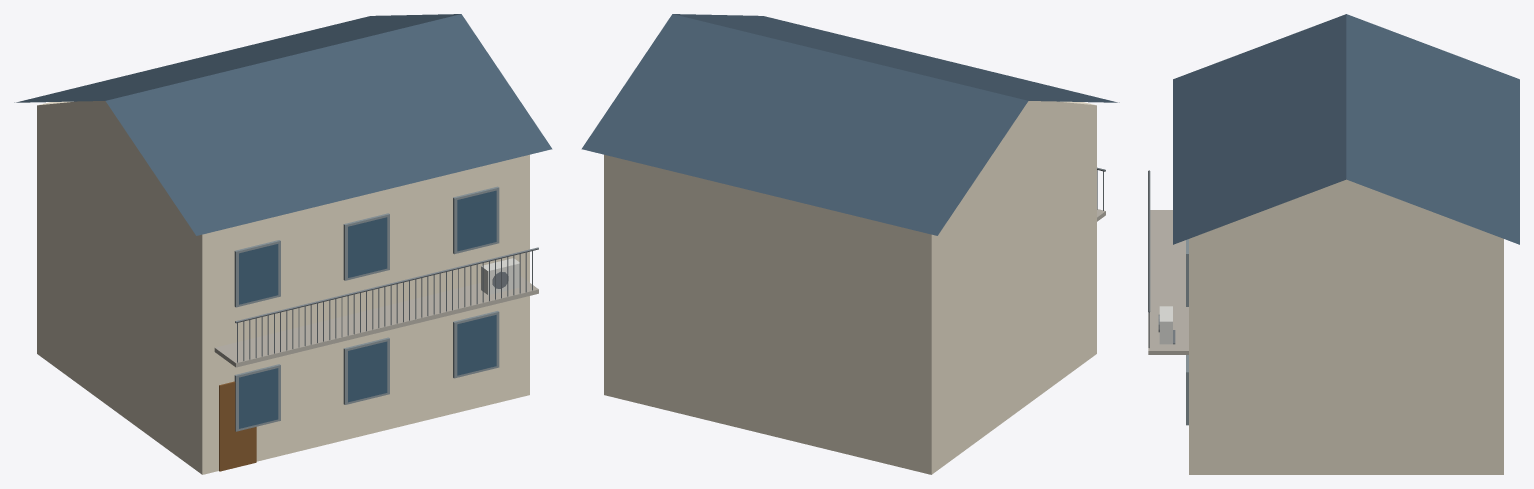
Rendered from House_A.fbx.
The picture shows the model from 3 angles, left to right: view 1: azimuth 30°, elevation 25°; view 2: azimuth 150°, elevation 25°; view 3: azimuth 270°, elevation 25°; orthographic projection. The views are drawn at different scales.
Visible parts, largest first — view 1: House_A; view 2: House_A; view 3: House_A.
Boxes of the visible parts, <box> form: House_A: <box>14,14,552,474</box>; House_A: <box>581,14,1119,474</box>; House_A: <box>1148,14,1519,474</box>.
Size of the model in its own units: 8.7 by 7.4 by 8.25.
